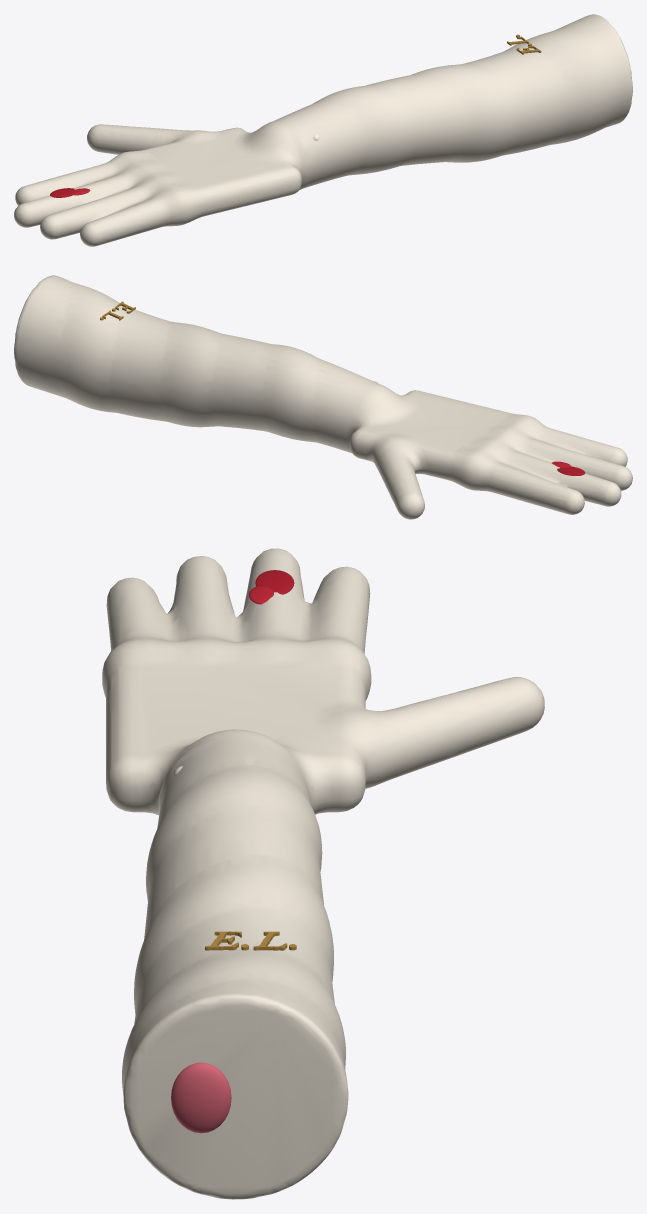
File: opera_glove.fbx
The picture shows the model from 3 angles, top to bottom: view 1: azimuth 30°, elevation 25°; view 2: azimuth 150°, elevation 25°; view 3: azimuth 270°, elevation 25°; orthographic projection. The views are drawn at different scales.
Visible parts, largest first — view 1: opera_glove; view 2: opera_glove; view 3: opera_glove.
Boxes of the visible parts, x1,y1,x2,y2 form: opera_glove: [14, 14, 632, 246]; opera_glove: [14, 275, 632, 519]; opera_glove: [102, 548, 544, 1199].
Size of the model in its own units: 0.3127 by 0.0554 by 0.1023.
